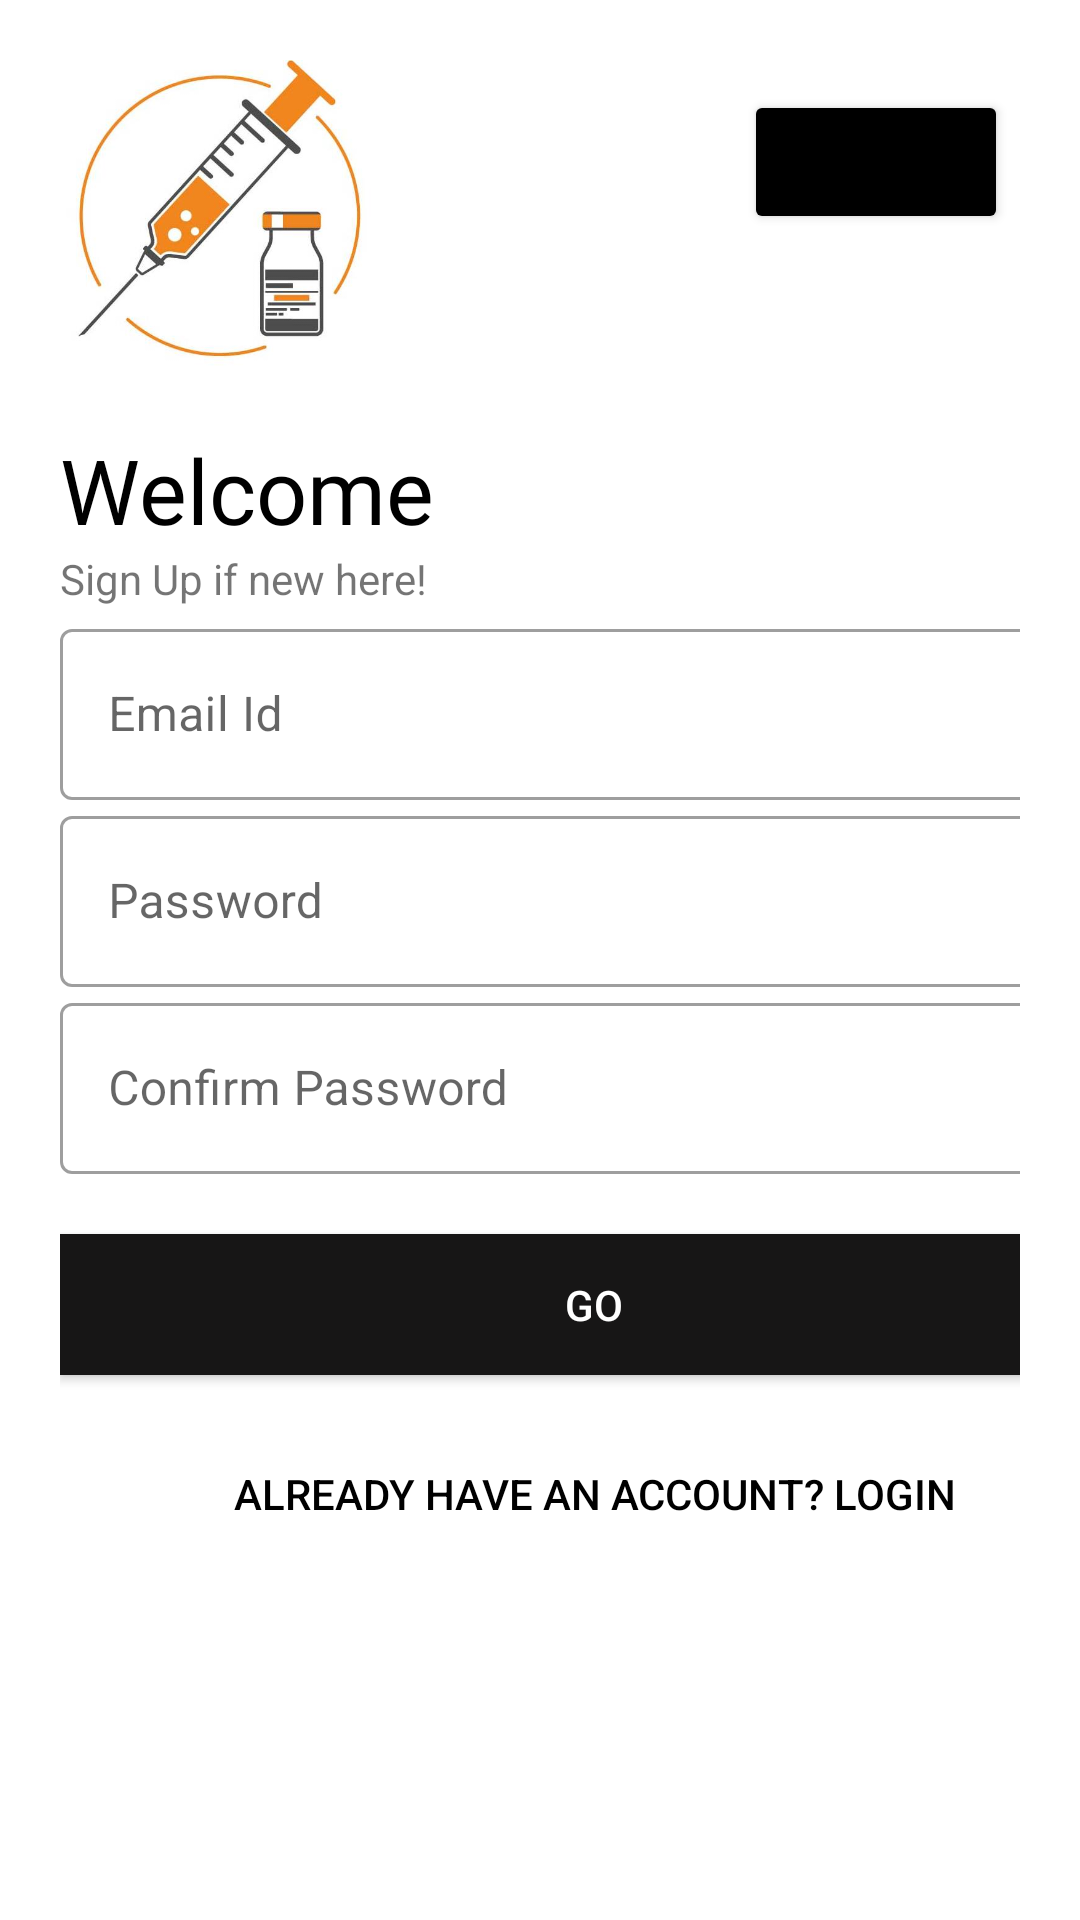

Locate icon controls on the screen. Image size 1080px×1920px, boxes as [x1=x1, y1=y1, x2=x2, y2=y2].
vacbacrop: [x1=78, y1=60, x2=361, y2=357]
